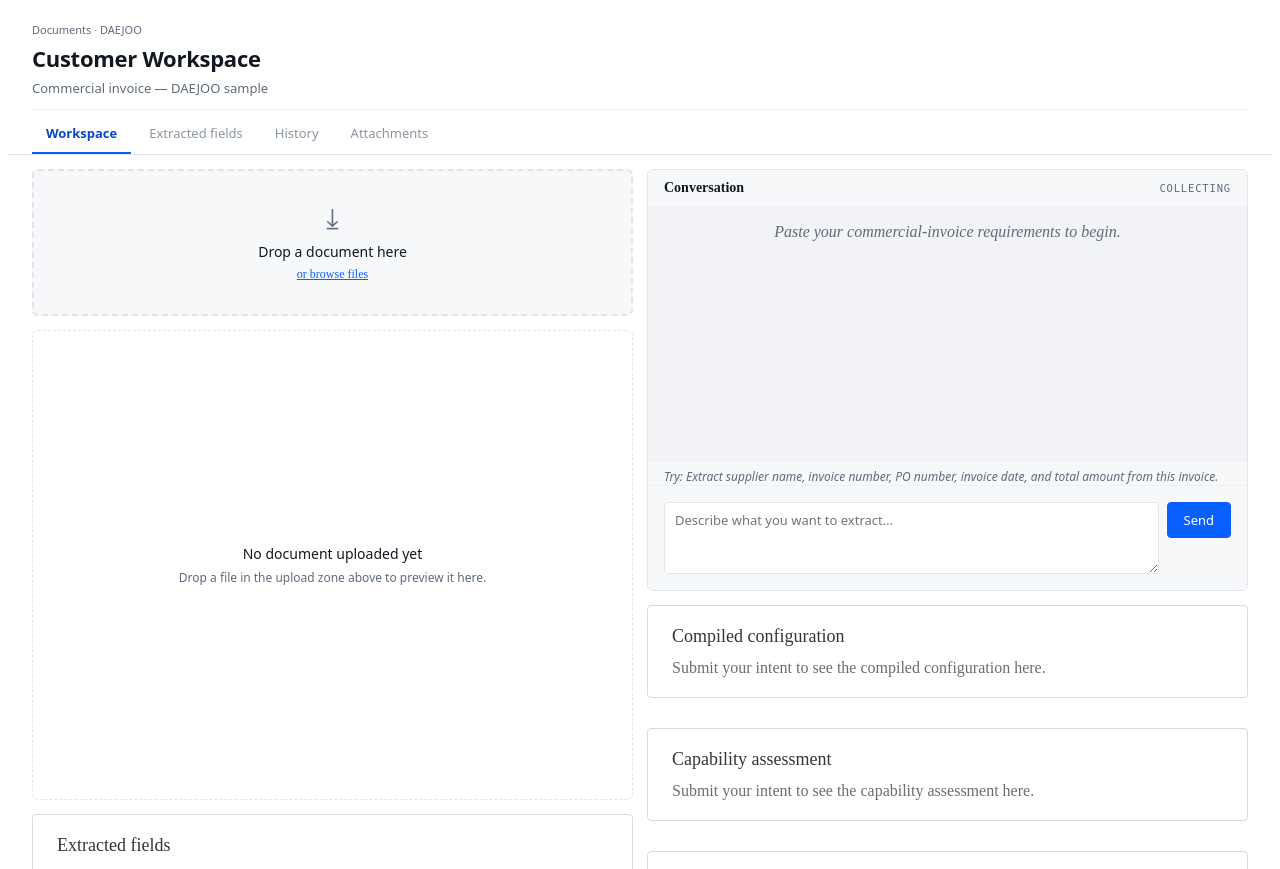
Test: F-11 CustomerRoute REBUILD — chrome + chat-first surface › chat panel submit appends a turn (one bubble per ChatTurn)
Type "extract supplier + PO" into the text box with test id "customer-chat-panel-input" at (911,538), box top-left (664, 502), bottom-right (1158, 574)
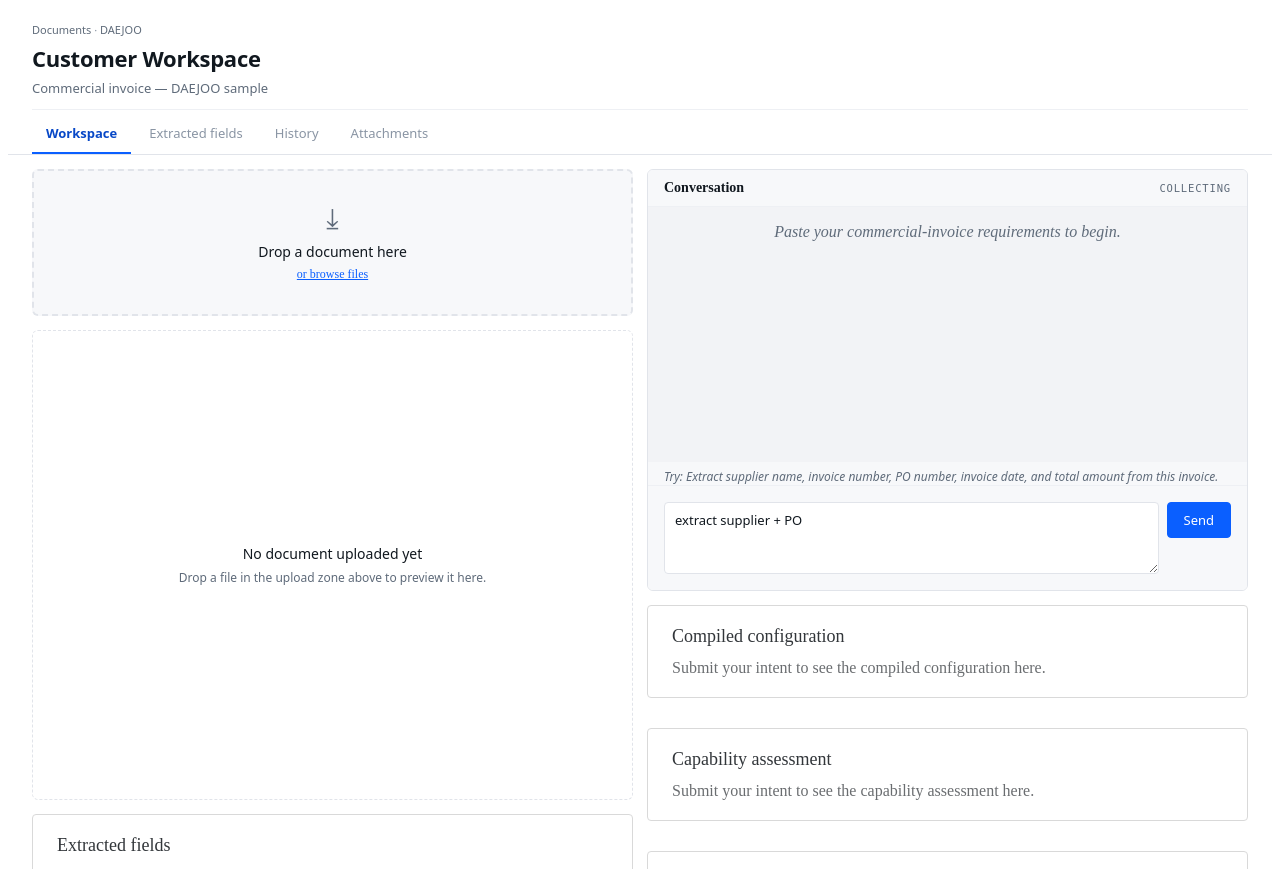
Click the button with test id "customer-chat-panel-submit" at (1199,520), box top-left (1166, 502), bottom-right (1231, 538)
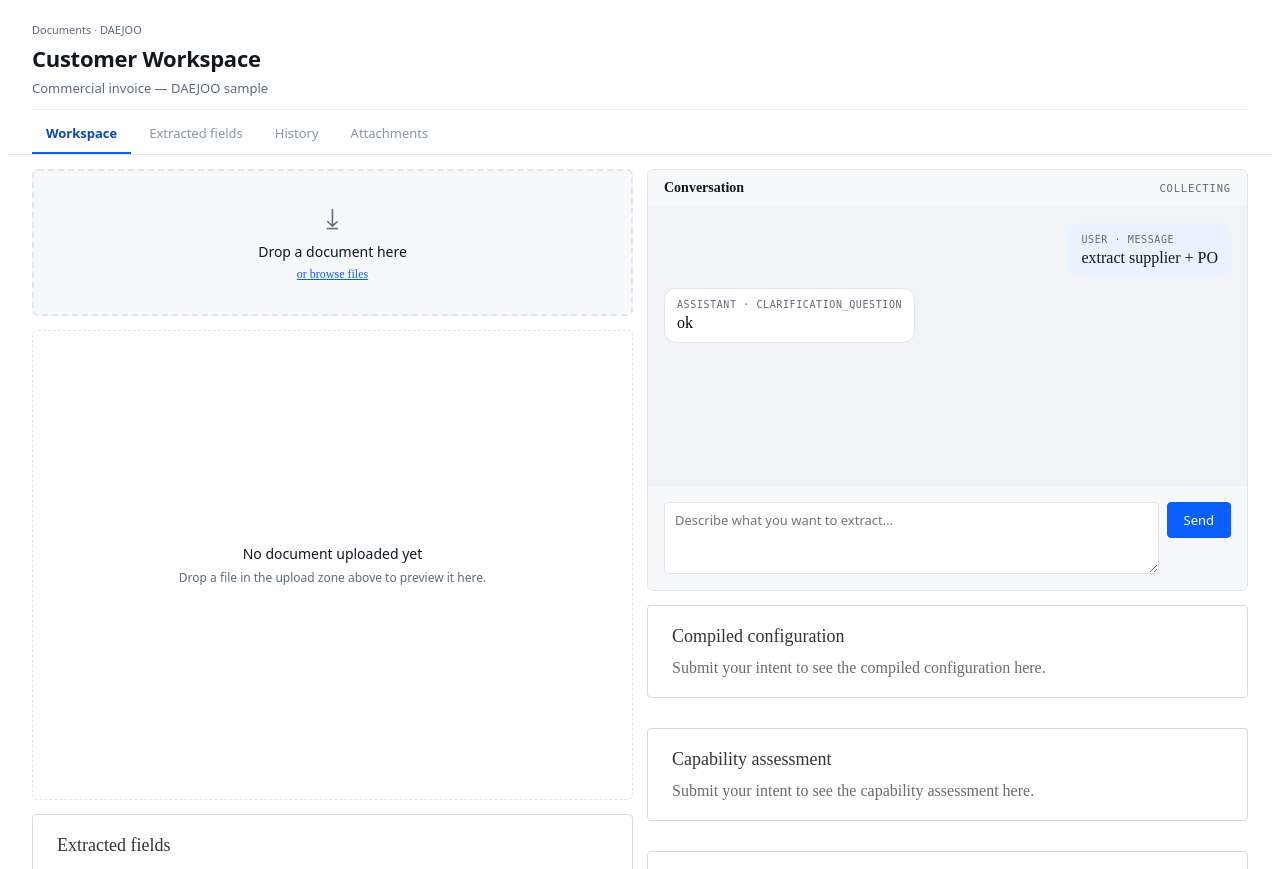
Expected: the text with test id "customer-chat-panel-empty" is gone
Expected: the element with test id "chat-bubble-t::1" is shown, top-left (1068, 223), bottom-right (1231, 278)
